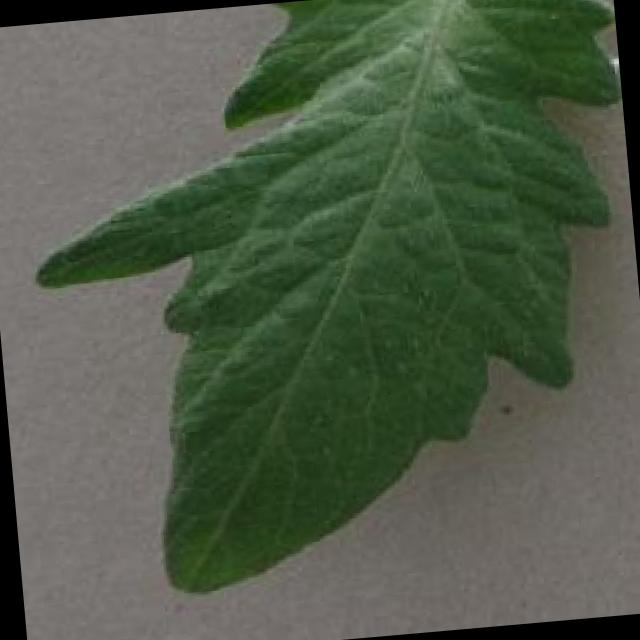Tomato_Healthy: (13, 0, 640, 609)
